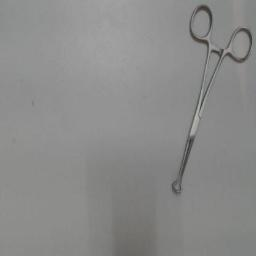Babcock Tissue Forceps: (170, 0, 256, 196)
